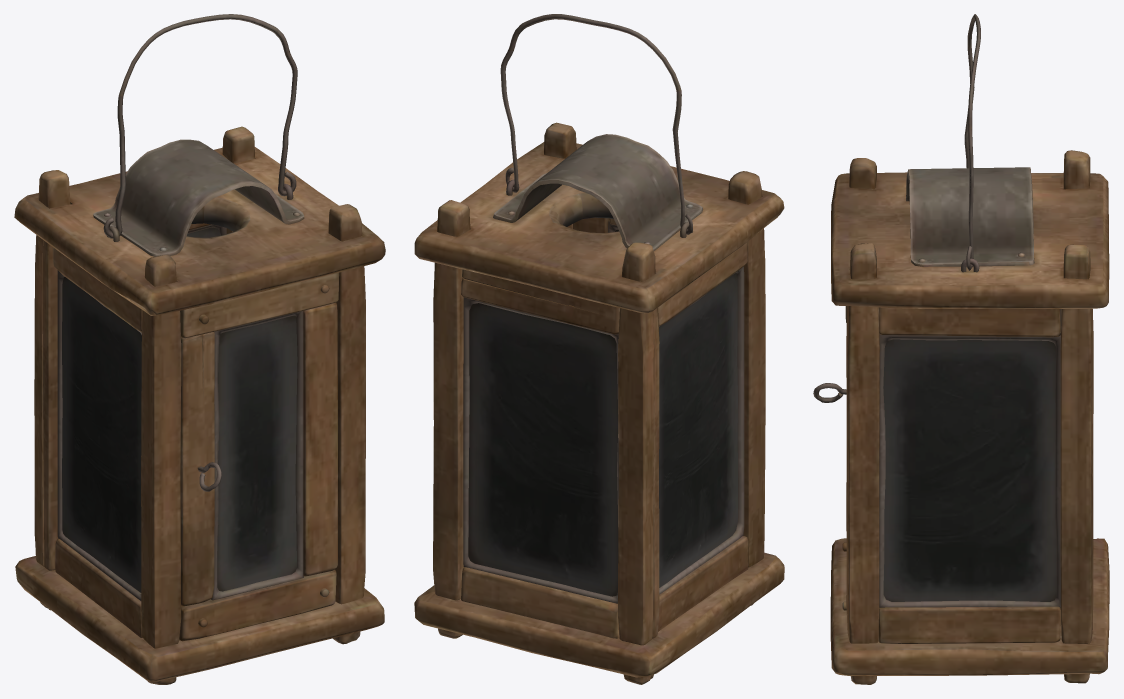
Rendered from wooden_lantern_01.glb.
3 views of the same model, side by side, from view 1: azimuth 30°, elevation 25°; view 2: azimuth 150°, elevation 25°; view 3: azimuth 270°, elevation 25° (orthographic).
Parts seen in each view (by area): view 1: wooden_lantern_01; view 2: wooden_lantern_01; view 3: wooden_lantern_01.
Boxes of the visible parts, x1=… form: wooden_lantern_01: x1=14, y1=14, x2=385, y2=684; wooden_lantern_01: x1=414, y1=14, x2=784, y2=684; wooden_lantern_01: x1=813, y1=14, x2=1109, y2=684.
Bounding box in the file's own units: 0.221 × 0.5301 × 0.2347.
2 materials, 2 textured.
